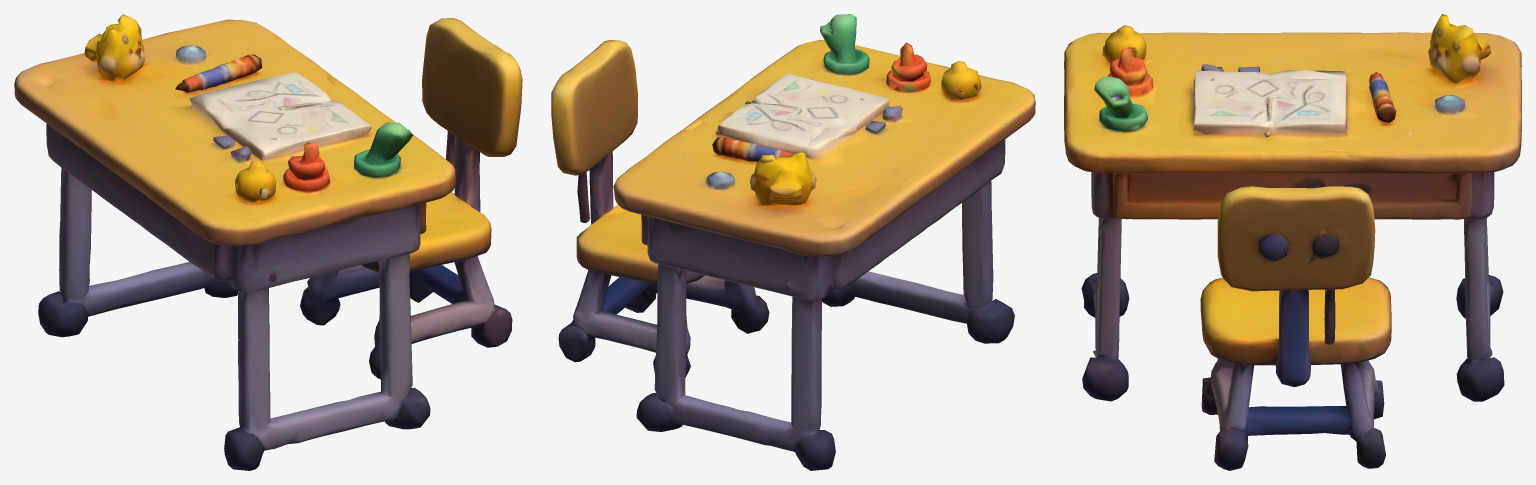
The model's file is desk.glb.
3 renders of one model, left to right at view 1: azimuth 30°, elevation 25°; view 2: azimuth 150°, elevation 25°; view 3: azimuth 270°, elevation 25°, orthographic. The views are drawn at different scales.
Parts seen in each view (by area): view 1: tripo_node_a1d908ee-0d31-4520-80e9-f00ff4c527c7; view 2: tripo_node_a1d908ee-0d31-4520-80e9-f00ff4c527c7; view 3: tripo_node_a1d908ee-0d31-4520-80e9-f00ff4c527c7.
Boxes of the visible parts, x1,y1,x2,y2 form: tripo_node_a1d908ee-0d31-4520-80e9-f00ff4c527c7: (14, 14, 522, 470); tripo_node_a1d908ee-0d31-4520-80e9-f00ff4c527c7: (551, 14, 1035, 470); tripo_node_a1d908ee-0d31-4520-80e9-f00ff4c527c7: (1064, 14, 1521, 470).
Bounding box in the file's own units: 0.9965 × 0.7642 × 1.
1 material, 1 textured.
